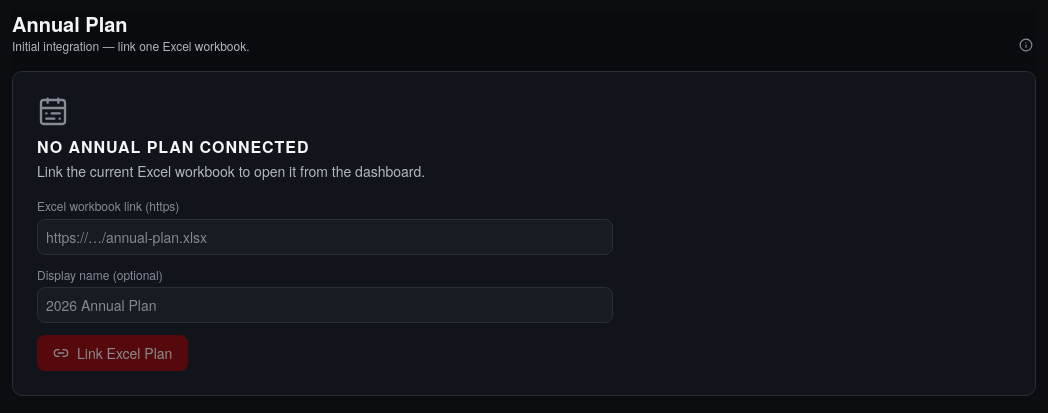
shows the empty state and links a valid workbook, persisting it
Expected: the heading "No annual plan connected" is shown, [37,135,310,158]
Type "https://example.com/2026-annual-plan.xlsx" into the field labelled "Excel workbook link (https)" at (325, 237), box [37,219,613,255]
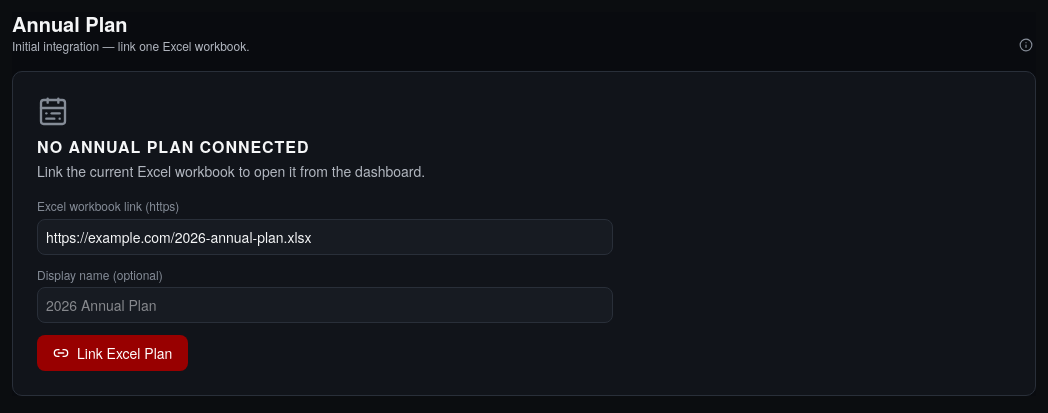
Click the button "Link Excel Plan" at (113, 353), box [37,335,188,371]
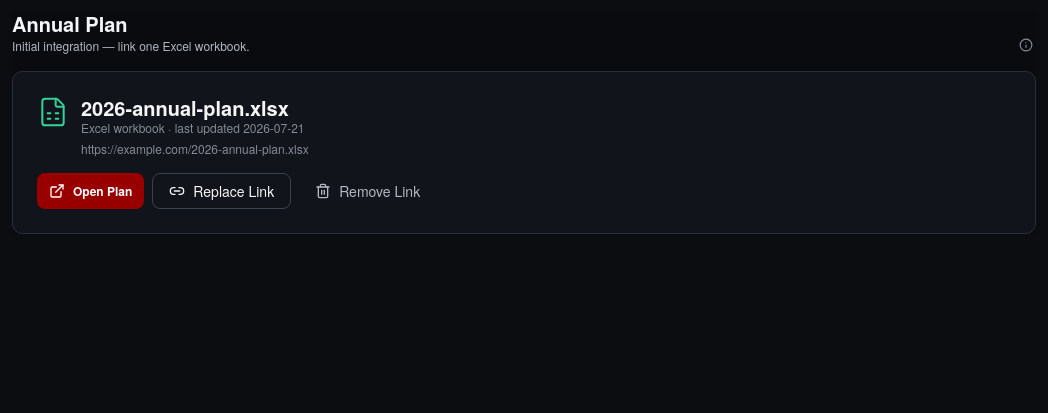
Result: the text "https://example.com/2026-annual-plan.xlsx" is shown at [81,141,309,157]
